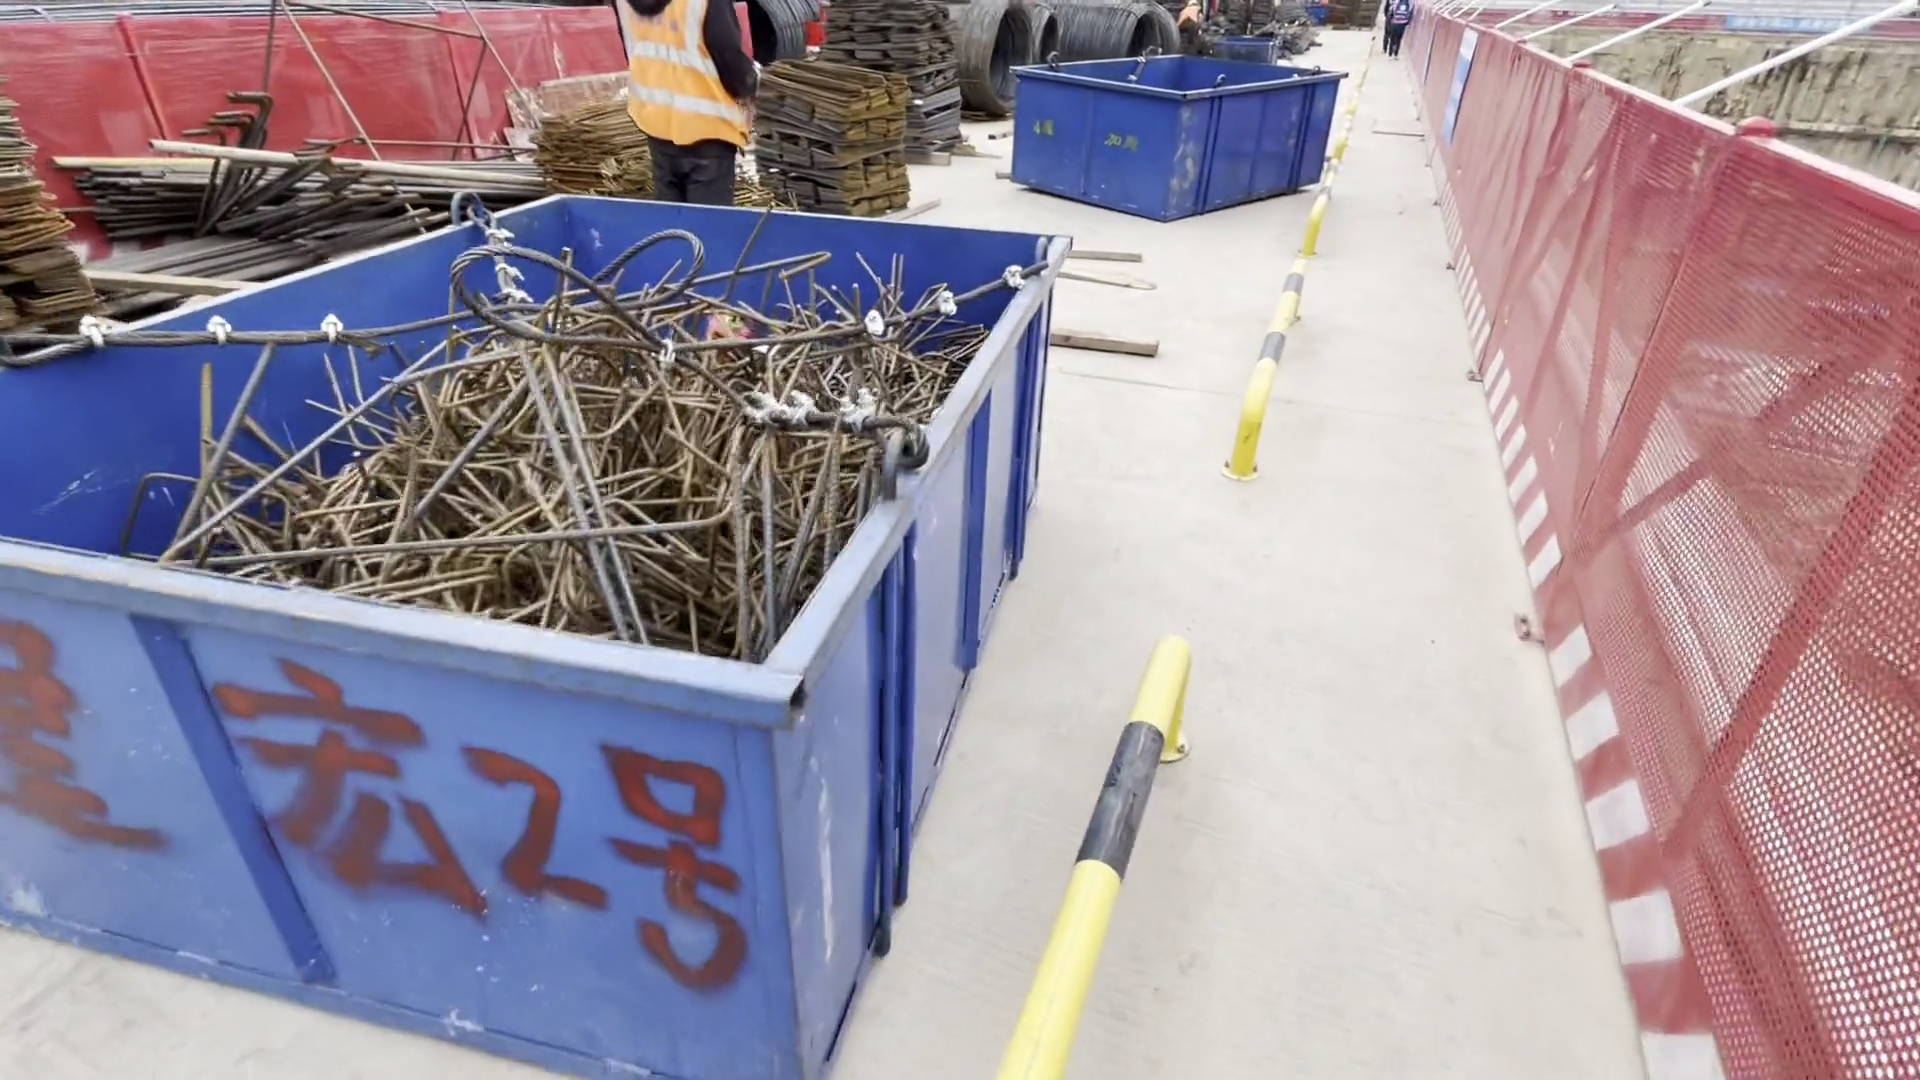fence: (1408, 11, 1915, 1080)
hopper: (6, 183, 1120, 1080), (970, 55, 1348, 238)
person: (625, 1, 751, 201), (1380, 1, 1409, 59), (1171, 1, 1204, 34)
vest: (626, 1, 763, 155), (1386, 1, 1408, 32)
